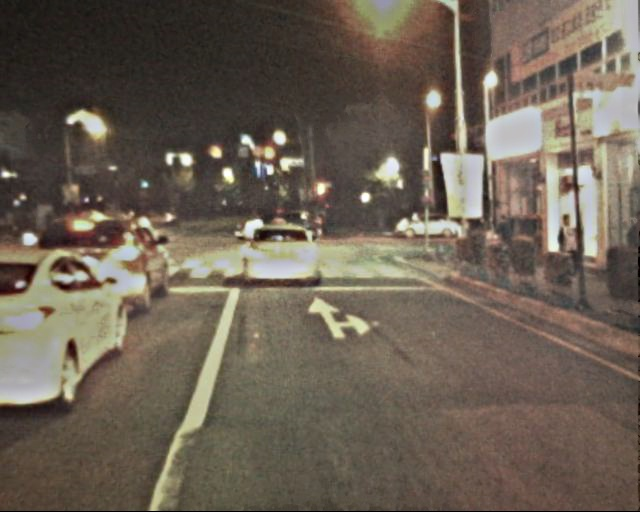person: (552, 213, 582, 287), (26, 206, 66, 235), (495, 216, 516, 266), (452, 217, 470, 260)
